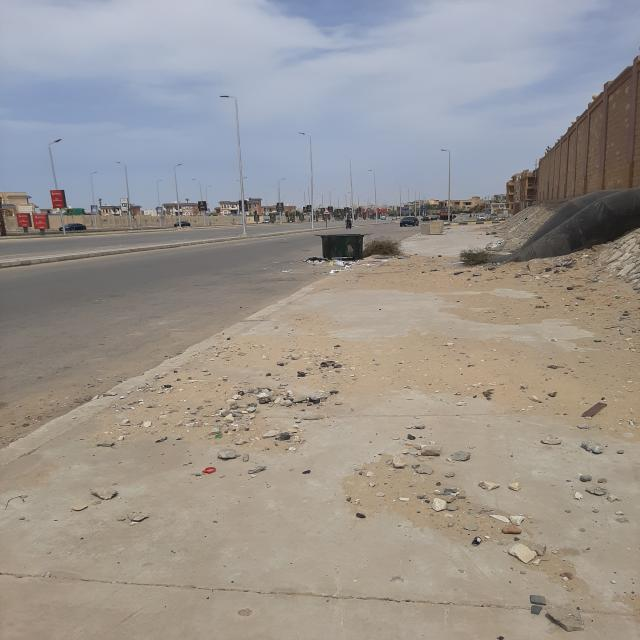Street Light: (219, 95, 248, 234), (47, 138, 67, 236), (298, 132, 314, 229), (115, 161, 133, 228), (440, 149, 451, 224), (365, 170, 378, 223), (174, 163, 183, 228), (90, 171, 99, 229), (278, 178, 286, 223)
